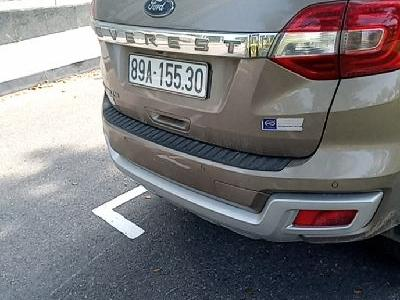lisence: (127, 52, 211, 100)
